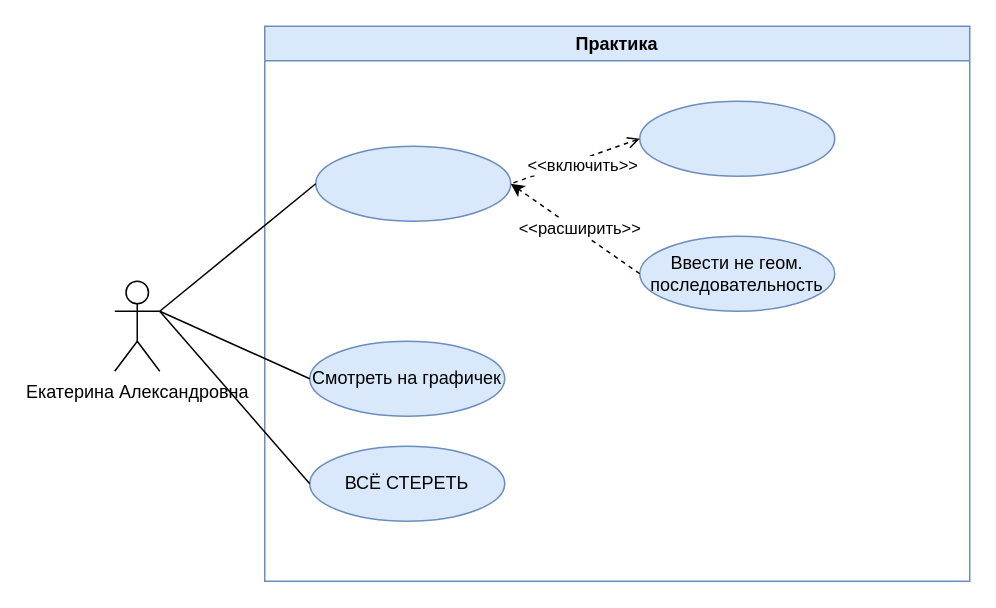
Some shapes in this 996 by 608 pixel diagram are drawn without their labels. The centre of each missing label's shape, as x and y in pixels:
"Ввести геом. последовательность" goes at pixel 736 138.
"Ввести последовательность" goes at pixel 412 183.
